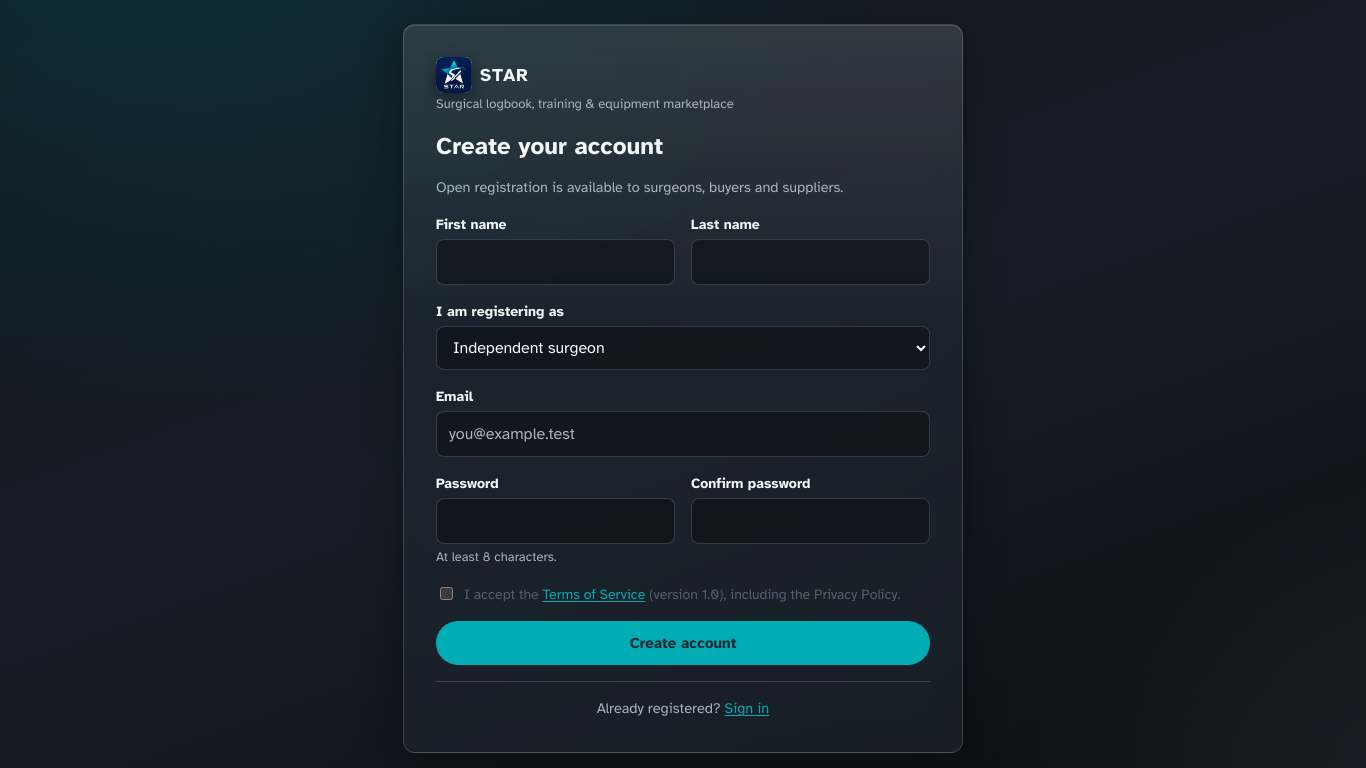
RegisterPage terms acceptance › shows the terms checkbox from the published version and blocks submission while unchecked
Expected: the checkbox labelled "Terms of Service" is not checked, [440,587,453,600]
Expected: the text "version 1.0" is shown, [645,586,724,603]
Step 1. Type "Ada" into the field labelled "First name" → (556, 262), box [436,239,675,285]
Step 2. Type "Kaya" into the field labelled "Last name" → (810, 262), box [691,239,930,285]
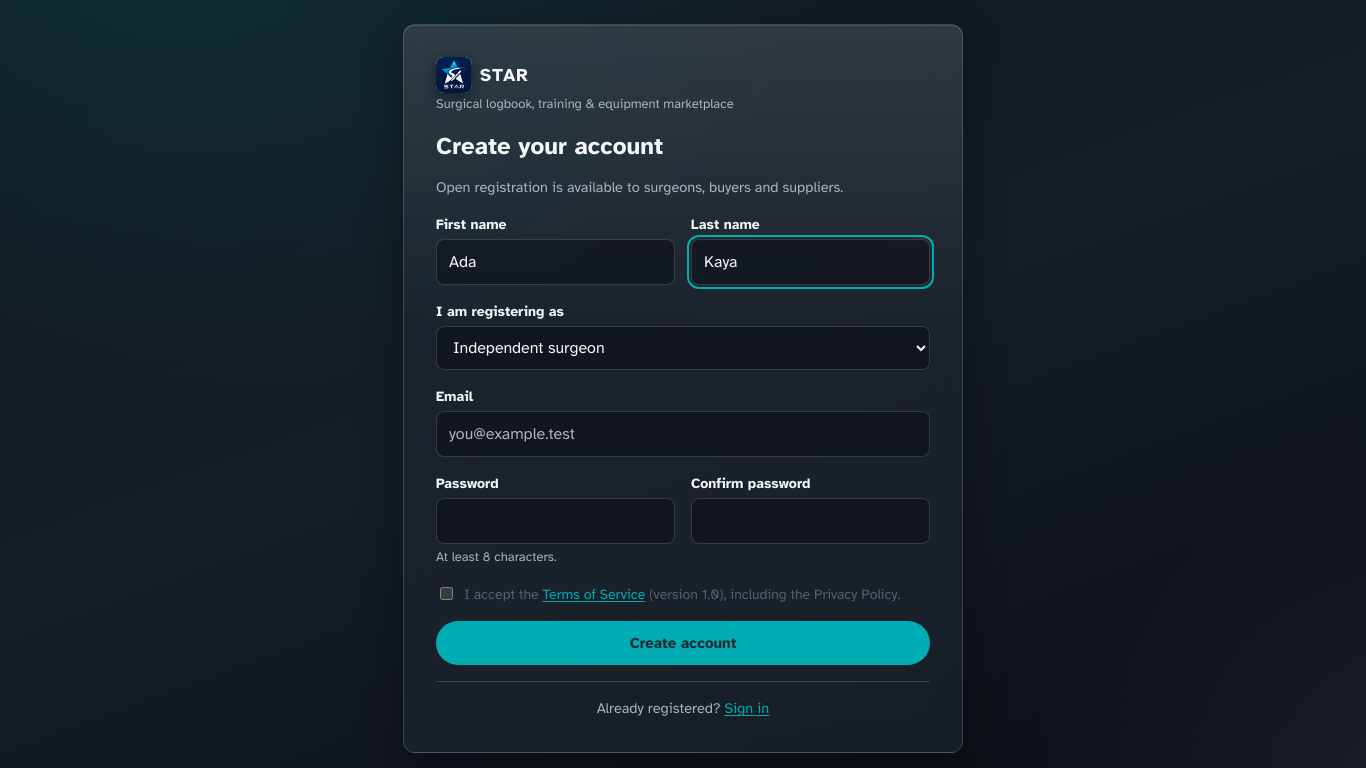
Step 3. Select "Equipment buyer" in the dropdown labelled "I am registering as" → (683, 348), box [436,326,930,370]
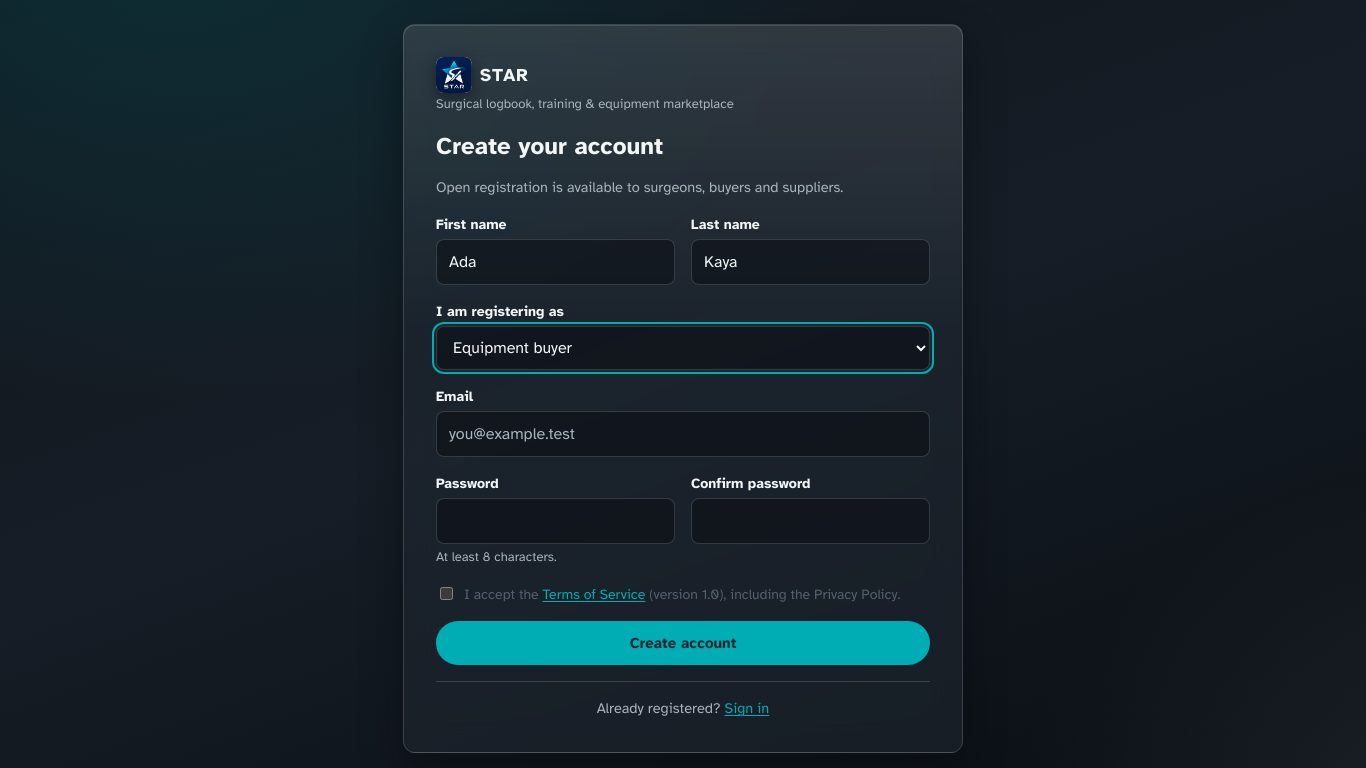
Step 4. Type "newcomer@example.test" into the field labelled "Email" → (683, 434), box [436,411,930,457]
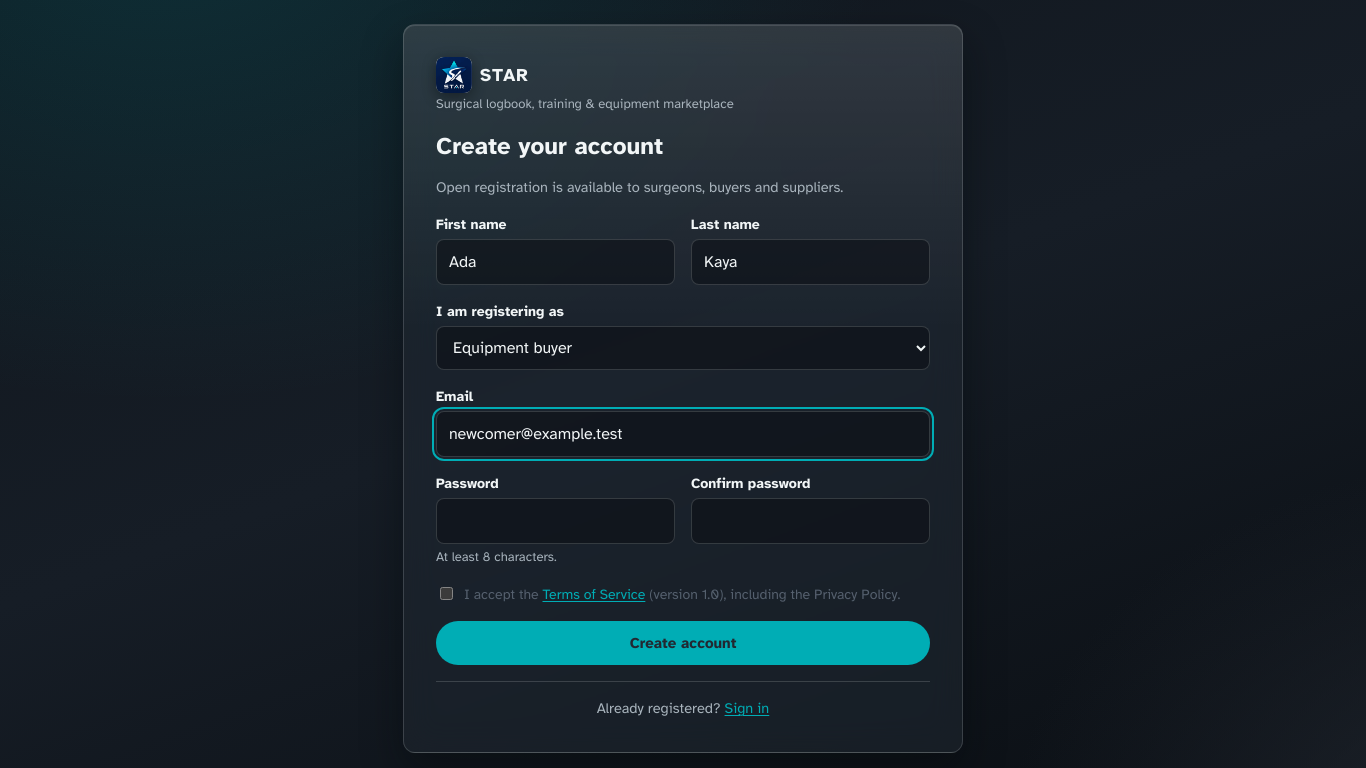
Step 5. Type "Str0ngP@ss" into the password field labelled "Password" → (556, 521), box [436,498,675,544]
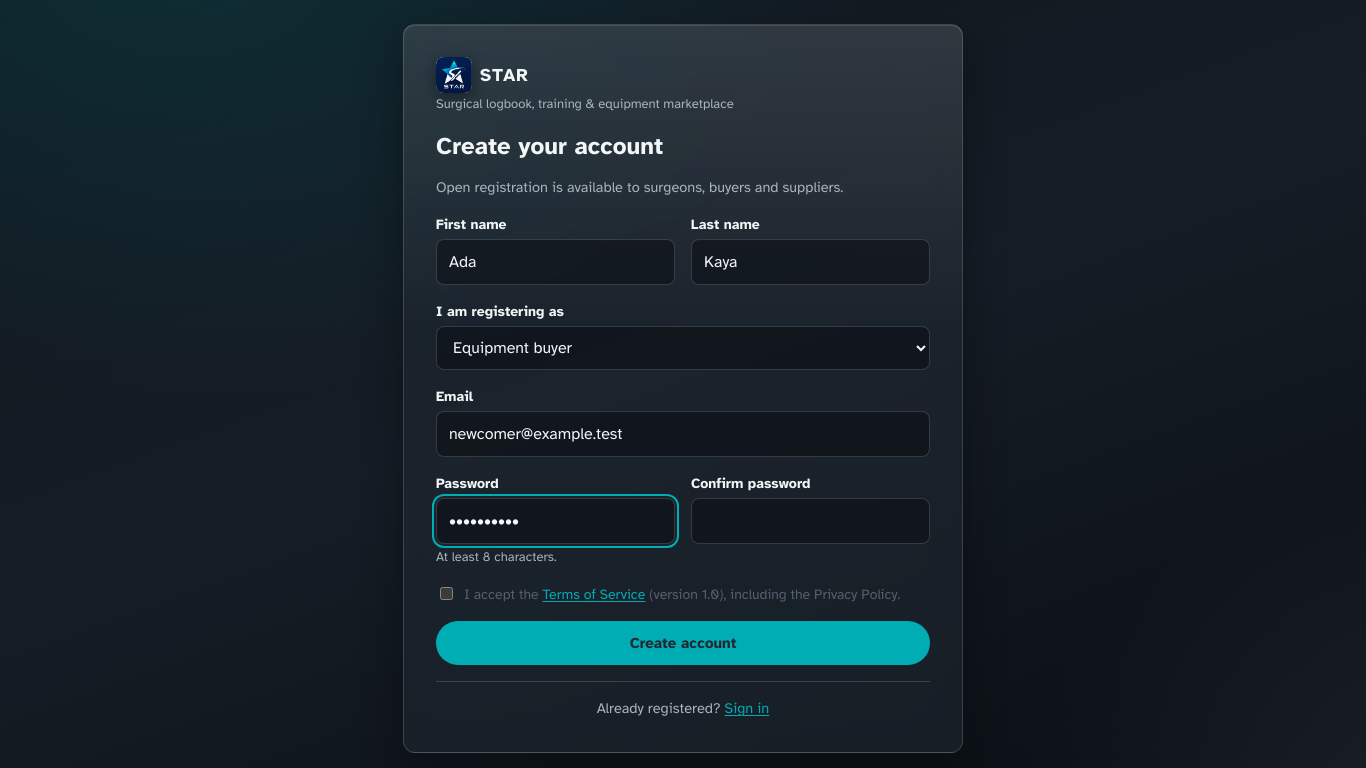
Step 6. Type "Str0ngP@ss" into the password field labelled "Confirm password" → (810, 521), box [691,498,930,544]
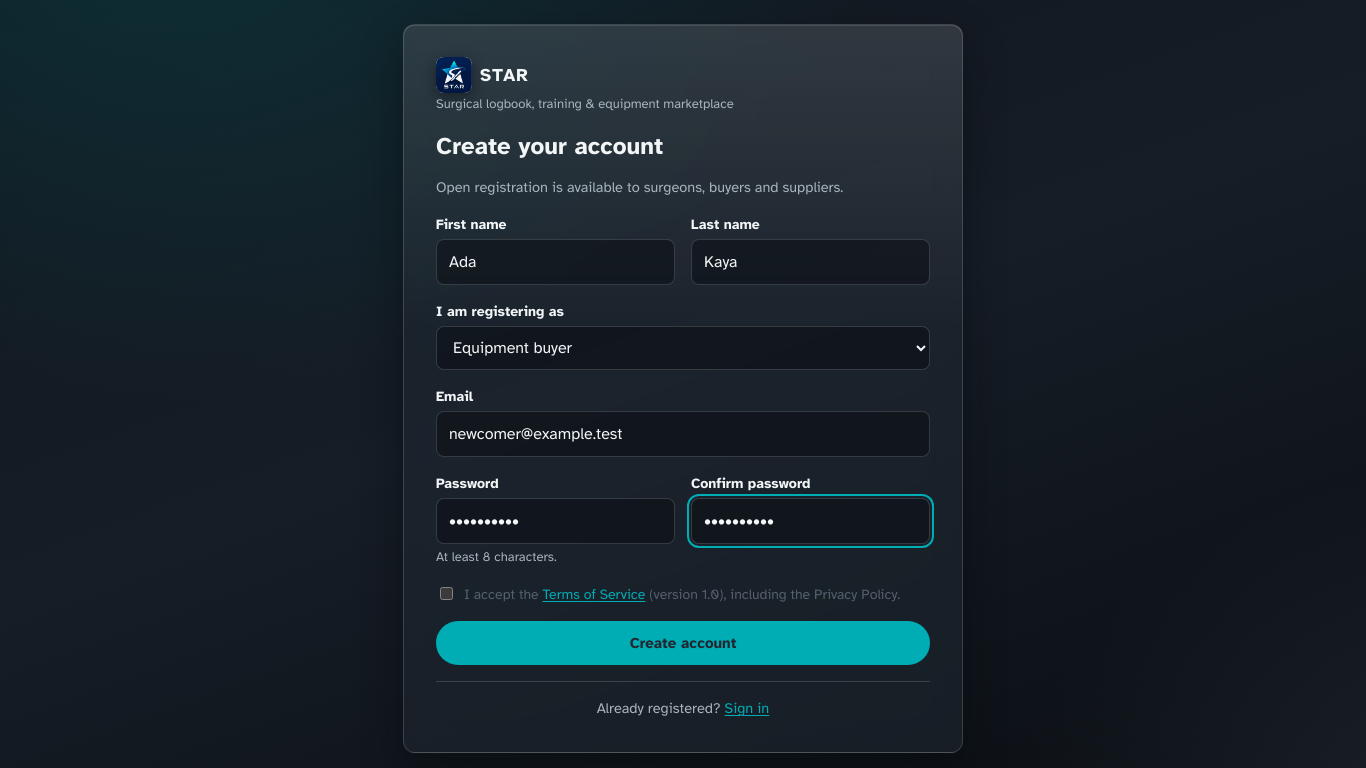
Step 7. Click the button "Create account" → (683, 643), box [436,621,930,665]
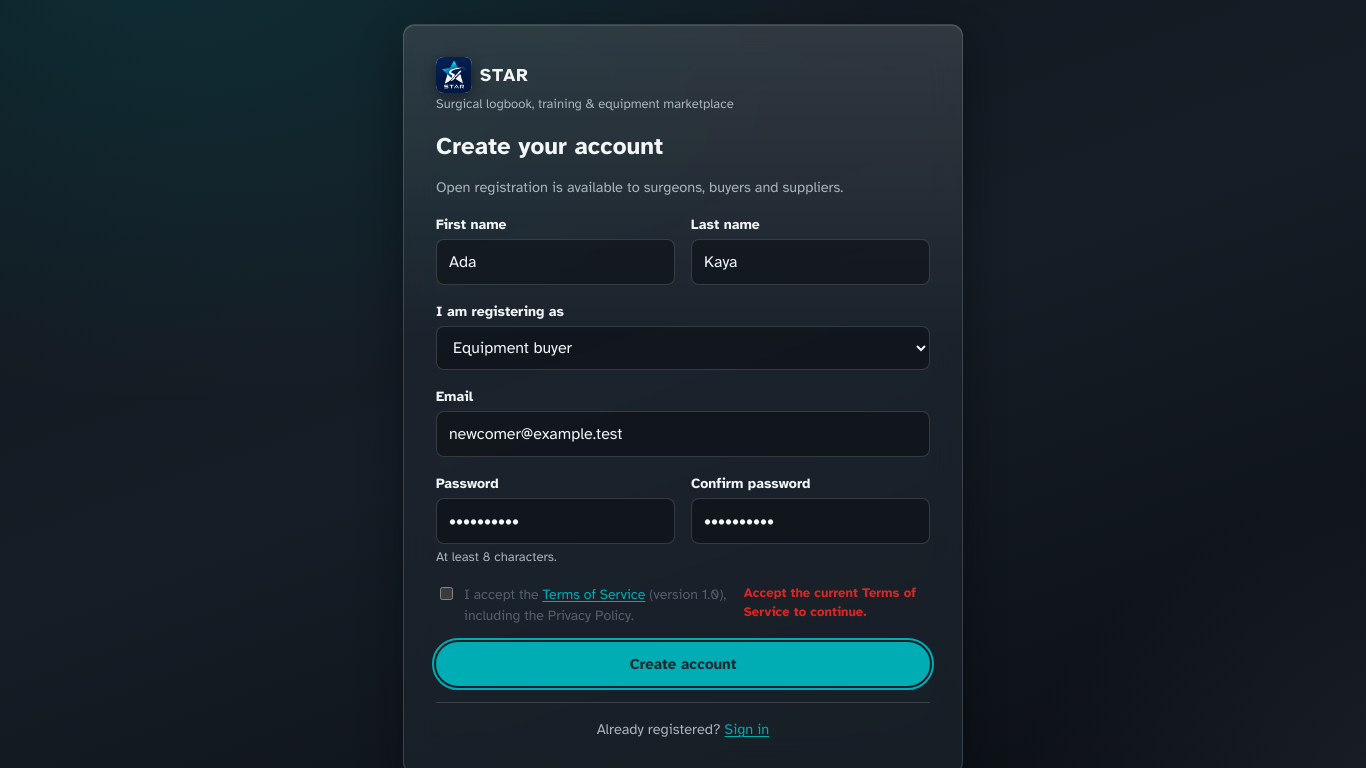
Expected: the text "Accept the current Terms of Service to continue." is shown, [744,584,930,623]
